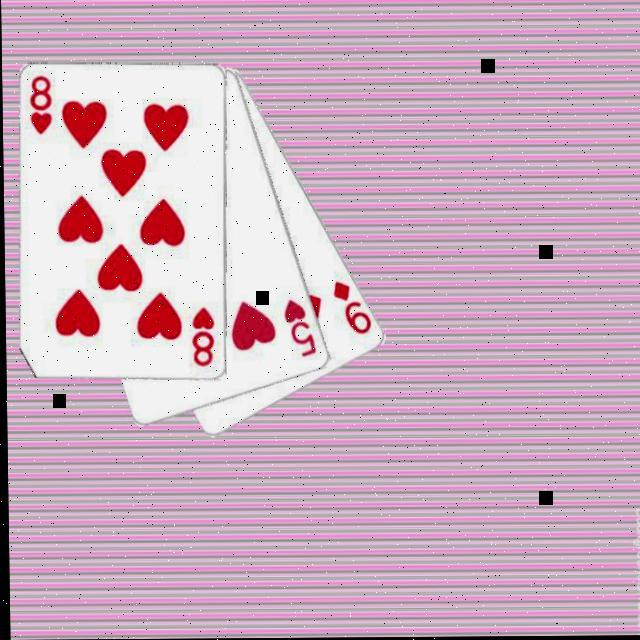5H: (281, 296, 320, 360)
8H: (189, 304, 218, 369), (27, 72, 56, 136)
9D: (330, 278, 374, 337)
